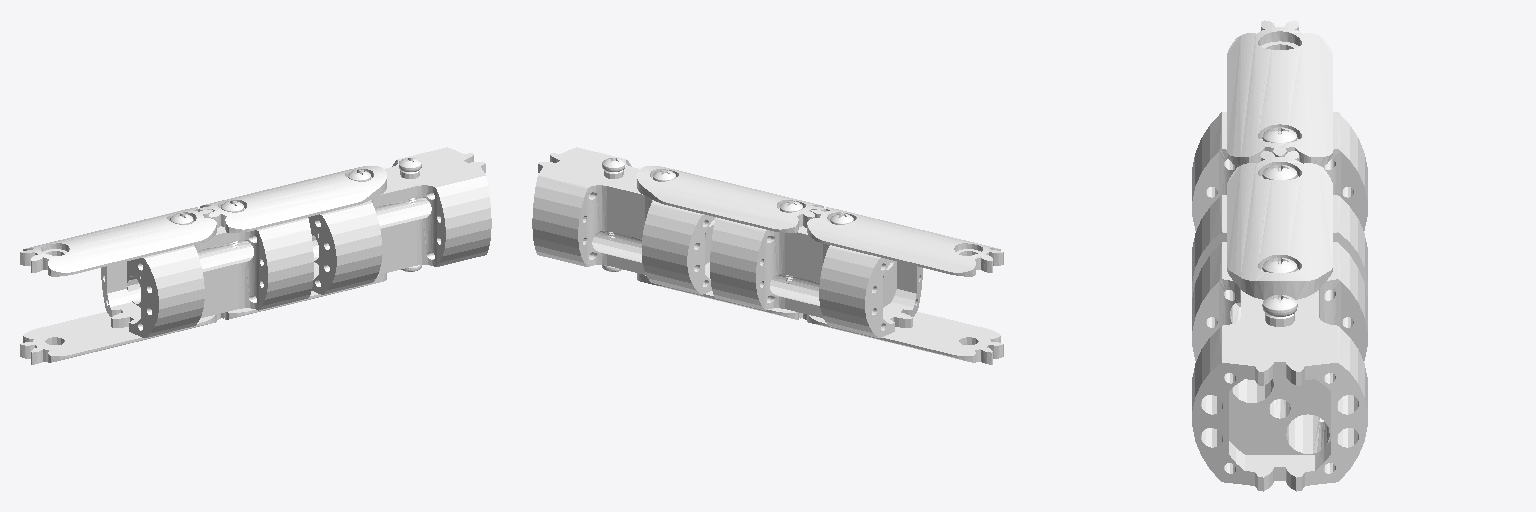
robot.urdf — CSI-200_BoneCuttingToolFullAssy_V4_URDF:
<?xml version="1.0" encoding="utf-8"?>
<!-- This URDF was automatically created by SolidWorks to URDF Exporter! Originally created by [author] ([email redacted]) 
     Commit Version: 1.6.0-1-g15f4949  Build Version: 1.6.7594.29634
     For more information, please see http://wiki.ros.org/sw_urdf_exporter -->
<robot
  name="CSI-200_BoneCuttingToolFullAssy_V4_URDF">
  <link
    name="base_link">
    <inertial>
      <origin
        xyz="-0.195542761308929 -0.0543004566173789 -0.00311358705126816"
        rpy="0 0 0" />
      <mass
        value="2.82497847633582" />
      <inertia
        ixx="0.000691365018399165"
        ixy="-7.21989726832368E-06"
        ixz="-8.28623313768042E-06"
        iyy="0.00220366922516715"
        iyz="9.93940688552824E-06"
        izz="0.0021607307802539" />
    </inertial>
    <visual>
      <origin
        xyz="0 0 0"
        rpy="0 0 0" />
      <geometry>
        <mesh
          filename="package://CSI-200_BoneCuttingToolFullAssy_V4_URDF/meshes/base_link.STL" />
      </geometry>
      <material
        name="">
        <color
          rgba="1 1 1 1" />
      </material>
    </visual>
    <collision>
      <origin
        xyz="0 0 0"
        rpy="0 0 0" />
      <geometry>
        <mesh
          filename="package://CSI-200_BoneCuttingToolFullAssy_V4_URDF/meshes/base_link.STL" />
      </geometry>
    </collision>
  </link>
  <link
    name="link_1">
    <inertial>
      <origin
        xyz="0.0101457727235753 -1.38937210070189E-08 1.73744119369434E-08"
        rpy="0 0 0" />
      <mass
        value="0.000801545700671476" />
      <inertia
        ixx="4.87957028547107E-09"
        ixy="8.24174385783391E-15"
        ixz="5.49944055996202E-15"
        iyy="4.45101627891487E-08"
        iyz="-2.78849773361008E-15"
        izz="4.8971339648408E-08" />
    </inertial>
    <visual>
      <origin
        xyz="0 0 0"
        rpy="0 0 0" />
      <geometry>
        <mesh
          filename="package://CSI-200_BoneCuttingToolFullAssy_V4_URDF/meshes/link_1.STL" />
      </geometry>
      <material
        name="">
        <color
          rgba="1 1 1 1" />
      </material>
    </visual>
    <collision>
      <origin
        xyz="0 0 0"
        rpy="0 0 0" />
      <geometry>
        <mesh
          filename="package://CSI-200_BoneCuttingToolFullAssy_V4_URDF/meshes/link_1.STL" />
      </geometry>
    </collision>
  </link>
  <joint
    name="Joint_1"
    type="revolute">
    <origin
      xyz="0 0 0"
      rpy="0 0 0" />
    <parent
      link="base_link" />
    <child
      link="link_1" />
    <axis
      xyz="0 0 -1" />
    <limit
      lower="0"
      upper="0"
      effort="0"
      velocity="0" />
  </joint>
  <link
    name="link_2">
    <inertial>
      <origin
        xyz="-0.0041346 -4.838E-08 1.8992E-09"
        rpy="0 0 0" />
      <mass
        value="0.0033683" />
      <inertia
        ixx="8.7289E-08"
        ixy="-4.858E-14"
        ixz="-2.9376E-13"
        iyy="2.1214E-07"
        iyz="-3.2726E-09"
        izz="2.175E-07" />
    </inertial>
    <visual>
      <origin
        xyz="0 0 0"
        rpy="0 0 0" />
      <geometry>
        <mesh
          filename="package://CSI-200_BoneCuttingToolFullAssy_V4_URDF/meshes/link_2.STL" />
      </geometry>
      <material
        name="">
        <color
          rgba="1 1 1 1" />
      </material>
    </visual>
    <collision>
      <origin
        xyz="0 0 0"
        rpy="0 0 0" />
      <geometry>
        <mesh
          filename="package://CSI-200_BoneCuttingToolFullAssy_V4_URDF/meshes/link_2.STL" />
      </geometry>
    </collision>
  </link>
  <joint
    name="Joint_2"
    type="revolute">
    <origin
      xyz="0.028 0 0"
      rpy="0 0 0" />
    <parent
      link="link_1" />
    <child
      link="link_2" />
    <axis
      xyz="0 0 1" />
    <limit
      lower="0"
      upper="0"
      effort="0"
      velocity="0" />
  </joint>
  <link
    name="link_3">
    <inertial>
      <origin
        xyz="-0.0102371819343171 -6.95258367544582E-09 6.79990827257004E-08"
        rpy="0 0 0" />
      <mass
        value="0.000776703550787097" />
      <inertia
        ixx="4.54352451091879E-09"
        ixy="-8.73669351483935E-14"
        ixz="-1.17844997889738E-14"
        iyy="4.07691636249048E-08"
        iyz="2.11595273770962E-14"
        izz="4.49040530272986E-08" />
    </inertial>
    <visual>
      <origin
        xyz="0 0 0"
        rpy="0 0 0" />
      <geometry>
        <mesh
          filename="package://CSI-200_BoneCuttingToolFullAssy_V4_URDF/meshes/link_3.STL" />
      </geometry>
      <material
        name="">
        <color
          rgba="1 1 1 1" />
      </material>
    </visual>
    <collision>
      <origin
        xyz="0 0 0"
        rpy="0 0 0" />
      <geometry>
        <mesh
          filename="package://CSI-200_BoneCuttingToolFullAssy_V4_URDF/meshes/link_3.STL" />
      </geometry>
    </collision>
  </link>
  <joint
    name="Joint_3"
    type="revolute">
    <origin
      xyz="0.02 0 0"
      rpy="0 0 0" />
    <parent
      link="link_2" />
    <child
      link="link_3" />
    <axis
      xyz="0 0 1" />
    <limit
      lower="0"
      upper="0"
      effort="0"
      velocity="0" />
  </joint>
  <link
    name="link_4">
    <inertial>
      <origin
        xyz="-0.00413458669102168 -5.31176039264558E-08 1.89923374249723E-09"
        rpy="0 0 0" />
      <mass
        value="0.00336830557166159" />
      <inertia
        ixx="8.7289371529378E-08"
        ixy="-5.08154165546928E-14"
        ixz="-1.65928902421146E-13"
        iyy="2.12140667540327E-07"
        iyz="-3.27257912690215E-09"
        izz="2.1749531315581E-07" />
    </inertial>
    <visual>
      <origin
        xyz="0 0 0"
        rpy="0 0 0" />
      <geometry>
        <mesh
          filename="package://CSI-200_BoneCuttingToolFullAssy_V4_URDF/meshes/link_4.STL" />
      </geometry>
      <material
        name="">
        <color
          rgba="1 1 1 1" />
      </material>
    </visual>
    <collision>
      <origin
        xyz="0 0 0"
        rpy="0 0 0" />
      <geometry>
        <mesh
          filename="package://CSI-200_BoneCuttingToolFullAssy_V4_URDF/meshes/link_4.STL" />
      </geometry>
    </collision>
  </link>
  <joint
    name="Joint_4"
    type="revolute">
    <origin
      xyz="0.008 0 0"
      rpy="0 0 0" />
    <parent
      link="link_3" />
    <child
      link="link_4" />
    <axis
      xyz="0 0 1" />
    <limit
      lower="0"
      upper="0"
      effort="0"
      velocity="0" />
  </joint>
  <!-- <link
    name="link_5">
    <inertial>
      <origin
        xyz="-0.00976281806568305 6.95260793381891E-09 6.7999082947745E-08"
        rpy="0 0 0" />
      <mass
        value="0.000776703550787119" />
      <inertia
        ixx="4.54352451091898E-09"
        ixy="-8.73669258551938E-14"
        ixz="1.17844997507639E-14"
        iyy="4.07691636249061E-08"
        iyz="-2.11595273789002E-14"
        izz="4.49040530272999E-08" />
    </inertial>
    <visual>
      <origin
        xyz="0 0 0"
        rpy="0 0 0" />
      <geometry>
        <mesh
          filename="package://CSI-200_BoneCuttingToolFullAssy_V4_URDF/meshes/link_5.STL" />
      </geometry>
      <material
        name="">
        <color
          rgba="1 1 1 1" />
      </material>
    </visual>
    <collision>
      <origin
        xyz="0 0 0"
        rpy="0 0 0" />
      <geometry>
        <mesh
          filename="package://CSI-200_BoneCuttingToolFullAssy_V4_URDF/meshes/link_5.STL" />
      </geometry>
    </collision>
  </link>
  <joint
    name="Joint_5"
    type="revolute">
    <origin
      xyz="0.02 0 0"
      rpy="0 0 0" />
    <parent
      link="link_4" />
    <child
      link="link_5" />
    <axis
      xyz="0 0 1" />
    <limit
      lower="0"
      upper="0"
      effort="0"
      velocity="0" />
  </joint>
  <link
    name="link_6">
    <inertial>
      <origin
        xyz="-0.0041346 -5.4614E-08 1.8992E-09"
        rpy="0 0 0" />
      <mass
        value="0.0033683" />
      <inertia
        ixx="8.7289E-08"
        ixy="-6.1181E-14"
        ixz="-9.4893E-14"
        iyy="2.1214E-07"
        iyz="-3.2726E-09"
        izz="2.175E-07" />
    </inertial>
    <visual>
      <origin
        xyz="0 0 0"
        rpy="0 0 0" />
      <geometry>
        <mesh
          filename="package://CSI-200_BoneCuttingToolFullAssy_V4_URDF/meshes/link_6.STL" />
      </geometry>
      <material
        name="">
        <color
          rgba="1 1 1 1" />
      </material>
    </visual>
    <collision>
      <origin
        xyz="0 0 0"
        rpy="0 0 0" />
      <geometry>
        <mesh
          filename="package://CSI-200_BoneCuttingToolFullAssy_V4_URDF/meshes/link_6.STL" />
      </geometry>
    </collision>
  </link>
  <joint
    name="Joint_6"
    type="revolute">
    <origin
      xyz="0.008 0 0"
      rpy="0 0 0" />
    <parent
      link="link_5" />
    <child
      link="link_6" />
    <axis
      xyz="0 0 1" />
    <limit
      lower="0"
      upper="0"
      effort="0"
      velocity="0" />
  </joint>
  <link
    name="link_7">
    <inertial>
      <origin
        xyz="-0.0101457727235751 1.38937032434505E-08 1.737441177041E-08"
        rpy="0 0 0" />
      <mass
        value="0.000801545700671478" />
      <inertia
        ixx="4.87957028547109E-09"
        ixy="8.24176223841101E-15"
        ixz="-5.49944063782202E-15"
        iyy="4.45101627891479E-08"
        iyz="2.78849774344208E-15"
        izz="4.89713396484073E-08" />
    </inertial>
    <visual>
      <origin
        xyz="0 0 0"
        rpy="0 0 0" />
      <geometry>
        <mesh
          filename="package://CSI-200_BoneCuttingToolFullAssy_V4_URDF/meshes/link_7.STL" />
      </geometry>
      <material
        name="">
        <color
          rgba="1 1 1 1" />
      </material>
    </visual>
    <collision>
      <origin
        xyz="0 0 0"
        rpy="0 0 0" />
      <geometry>
        <mesh
          filename="package://CSI-200_BoneCuttingToolFullAssy_V4_URDF/meshes/link_7.STL" />
      </geometry>
    </collision>
  </link>
  <joint
    name="Joint_7"
    type="revolute">
    <origin
      xyz="0.02 0 0"
      rpy="0 0 0" />
    <parent
      link="link_6" />
    <child
      link="link_7" />
    <axis
      xyz="0 0 1" />
    <limit
      lower="0"
      upper="0"
      effort="0"
      velocity="0" />
  </joint>
  <link
    name="link_8">
    <inertial>
      <origin
        xyz="-0.00413459043224676 -5.42795224878212E-08 1.89923382576396E-09"
        rpy="0 0 0" />
      <mass
        value="0.00336830557166155" />
      <inertia
        ixx="8.72893847155127E-08"
        ixy="-5.77927943524461E-14"
        ixz="-1.14282567555678E-13"
        iyy="2.12140654354189E-07"
        iyz="-3.27258604345153E-09"
        izz="2.17495313155808E-07" />
    </inertial>
    <visual>
      <origin
        xyz="0 0 0"
        rpy="0 0 0" />
      <geometry>
        <mesh
          filename="package://CSI-200_BoneCuttingToolFullAssy_V4_URDF/meshes/link_8.STL" />
      </geometry>
      <material
        name="">
        <color
          rgba="1 1 1 1" />
      </material>
    </visual>
    <collision>
      <origin
        xyz="0 0 0"
        rpy="0 0 0" />
      <geometry>
        <mesh
          filename="package://CSI-200_BoneCuttingToolFullAssy_V4_URDF/meshes/link_8.STL" />
      </geometry>
    </collision>
  </link>
  <joint
    name="Joint_8"
    type="revolute">
    <origin
      xyz="0.008 0 0"
      rpy="0 0 0" />
    <parent
      link="link_7" />
    <child
      link="link_8" />
    <axis
      xyz="0 0 1" />
    <limit
      lower="0"
      upper="0"
      effort="0"
      velocity="0" />
  </joint>
  <link
    name="link_9">
    <inertial>
      <origin
        xyz="-0.0101457727235744 1.38935972171517E-08 1.73744119369434E-08"
        rpy="0 0 0" />
      <mass
        value="0.000801545700671512" />
      <inertia
        ixx="4.87957028547128E-09"
        ixy="8.24175386493798E-15"
        ixz="-5.49944063220866E-15"
        iyy="4.45101627891502E-08"
        iyz="2.78849776675144E-15"
        izz="4.89713396484096E-08" />
    </inertial>
    <visual>
      <origin
        xyz="0 0 0"
        rpy="0 0 0" />
      <geometry>
        <mesh
          filename="package://CSI-200_BoneCuttingToolFullAssy_V4_URDF/meshes/link_9.STL" />
      </geometry>
      <material
        name="">
        <color
          rgba="1 1 1 1" />
      </material>
    </visual>
    <collision>
      <origin
        xyz="0 0 0"
        rpy="0 0 0" />
      <geometry>
        <mesh
          filename="package://CSI-200_BoneCuttingToolFullAssy_V4_URDF/meshes/link_9.STL" />
      </geometry>
    </collision>
  </link>
  <joint
    name="Joint_9"
    type="revolute">
    <origin
      xyz="0.02 0 0"
      rpy="0 0 0" />
    <parent
      link="link_8" />
    <child
      link="link_9" />
    <axis
      xyz="0 0 1" />
    <limit
      lower="0"
      upper="0"
      effort="0"
      velocity="0" />
  </joint>
  <link
    name="jaw">
    <inertial>
      <origin
        xyz="-0.0162494788517108 0.00970487538356685 -5.29411001148894E-09"
        rpy="0 0 0" />
      <mass
        value="0.0203919851208377" />
      <inertia
        ixx="7.44462850114211E-07"
        ixy="1.14189498281302E-07"
        ixz="1.80284060821887E-12"
        iyy="5.57865257909692E-07"
        iyz="-2.2650481430213E-09"
        izz="9.15710154261717E-07" />
    </inertial>
    <visual>
      <origin
        xyz="0 0 0"
        rpy="0 0 0" />
      <geometry>
        <mesh
          filename="package://CSI-200_BoneCuttingToolFullAssy_V4_URDF/meshes/jaw.STL" />
      </geometry>
      <material
        name="">
        <color
          rgba="1 1 1 1" />
      </material>
    </visual>
    <collision>
      <origin
        xyz="0 0 0"
        rpy="0 0 0" />
      <geometry>
        <mesh
          filename="package://CSI-200_BoneCuttingToolFullAssy_V4_URDF/meshes/jaw.STL" />
      </geometry>
    </collision>
  </link>
  <joint
    name="jaw"
    type="fixed">
    <origin
      xyz="0.039 -0.0105 0"
      rpy="0 0 0" />
    <parent
      link="link_9" />
    <child
      link="jaw" />
    <axis
      xyz="0 0 0" />
  </joint> -->
</robot> 

--- What the picture shows (computed from the rendered views, not written in the file) ---
The picture shows the robot from 3 angles, left to right: view 1: azimuth 30°, elevation 25°; view 2: azimuth 150°, elevation 25°; view 3: azimuth 270°, elevation 25°; orthographic projection.
Robot: CSI-200_BoneCuttingToolFullAssy_V4_URDF — 5 links, 4 joints (4 revolute); root link base_link; default pose: every joint at zero.
Links seen in each view (by area): view 1: link_4, link_2, link_1, link_3; view 2: link_4, link_2, link_1, link_3; view 3: link_4, link_1, link_3, link_2.
Boxes of the visible links, box(x1,y1,x2,y2) form: link_4: box(308, 147, 491, 294); link_2: box(101, 201, 313, 337); link_1: box(20, 207, 216, 364); link_3: box(198, 166, 386, 319); link_4: box(532, 147, 715, 294); link_2: box(710, 201, 922, 337); link_1: box(807, 207, 1003, 364); link_3: box(637, 166, 825, 319); link_4: box(1192, 242, 1367, 491); link_1: box(1227, 20, 1332, 166); link_3: box(1227, 151, 1332, 419); link_2: box(1192, 112, 1367, 306).
Bounding box of the posed robot: 0.0715 × 0.0159 × 0.0167 m (x, y, z).
Meshes: 5 distinct files referenced, 4 mesh visuals loaded (4 binary STL); not drawn: 1 (reference not matched to a file when rendering).